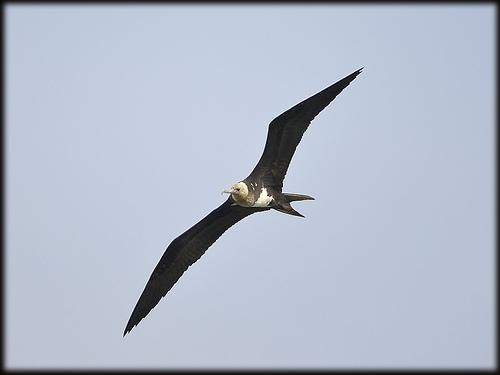bird: (122, 62, 366, 338)
